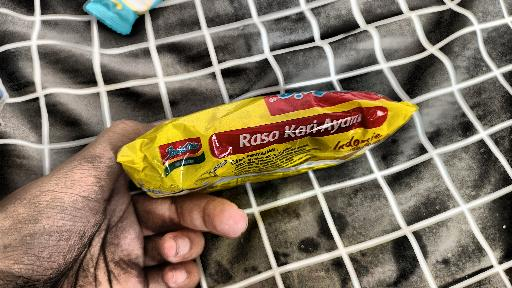indomie: (100, 93, 432, 198)
